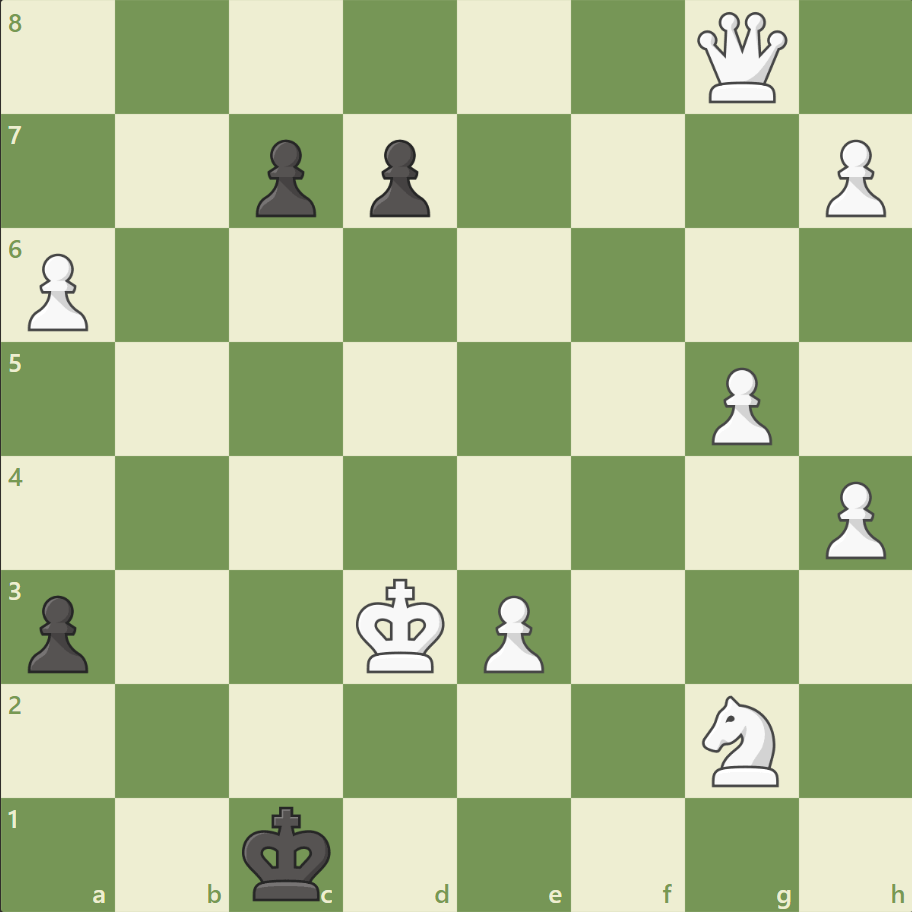K: (351, 571, 451, 679)
N: (692, 688, 789, 791)
P: (20, 246, 95, 337), (701, 359, 776, 450), (474, 586, 549, 677), (815, 132, 889, 223), (815, 473, 889, 564)
Q: (691, 9, 790, 108)
k: (238, 798, 338, 906)
p: (247, 132, 322, 223), (20, 586, 95, 677), (361, 132, 435, 223)
